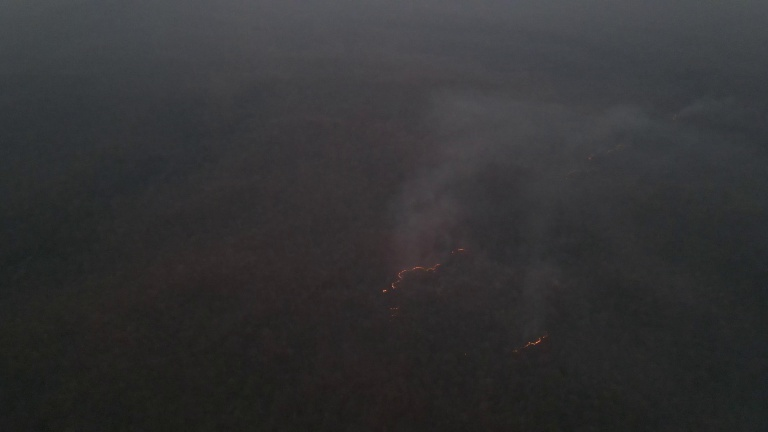fire: (378, 262, 443, 317), (509, 332, 551, 355), (448, 242, 471, 256)
smoke: (383, 89, 572, 260)
